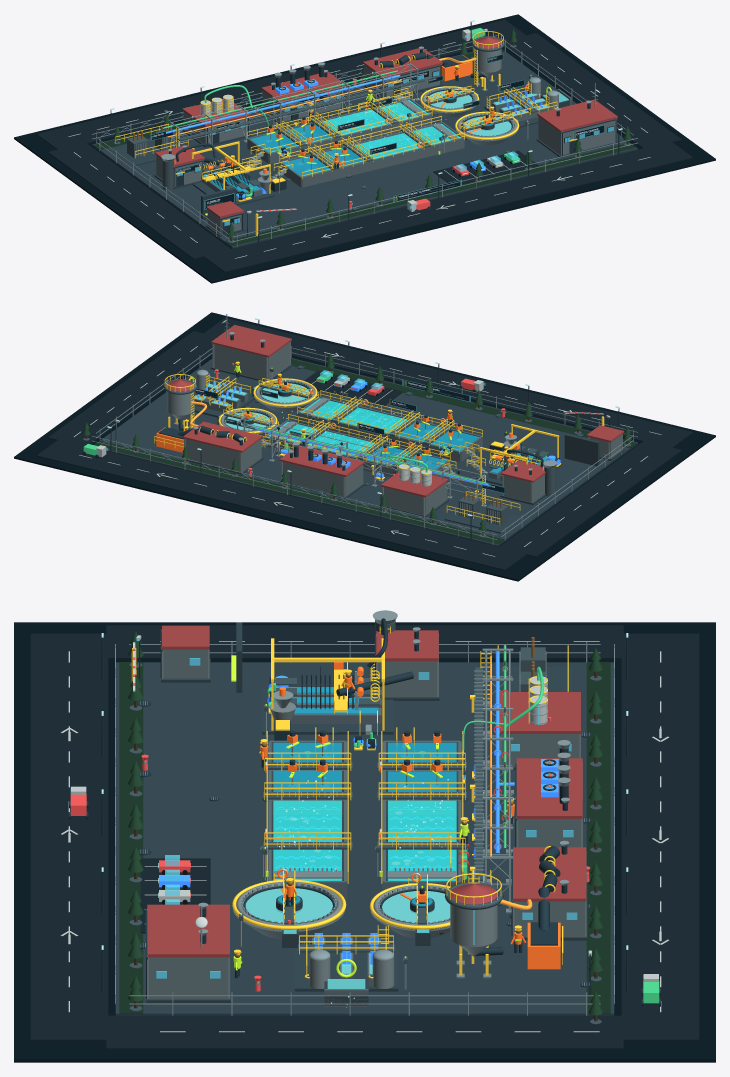
File: overview.glb
3 renders of one model, top to bottom at view 1: azimuth 30°, elevation 25°; view 2: azimuth 150°, elevation 25°; view 3: azimuth 270°, elevation 25°, orthographic. The views are drawn at different scales.
Size of the model in its own units: 56 by 6.33 by 38.
116 materials, 16 textured.
